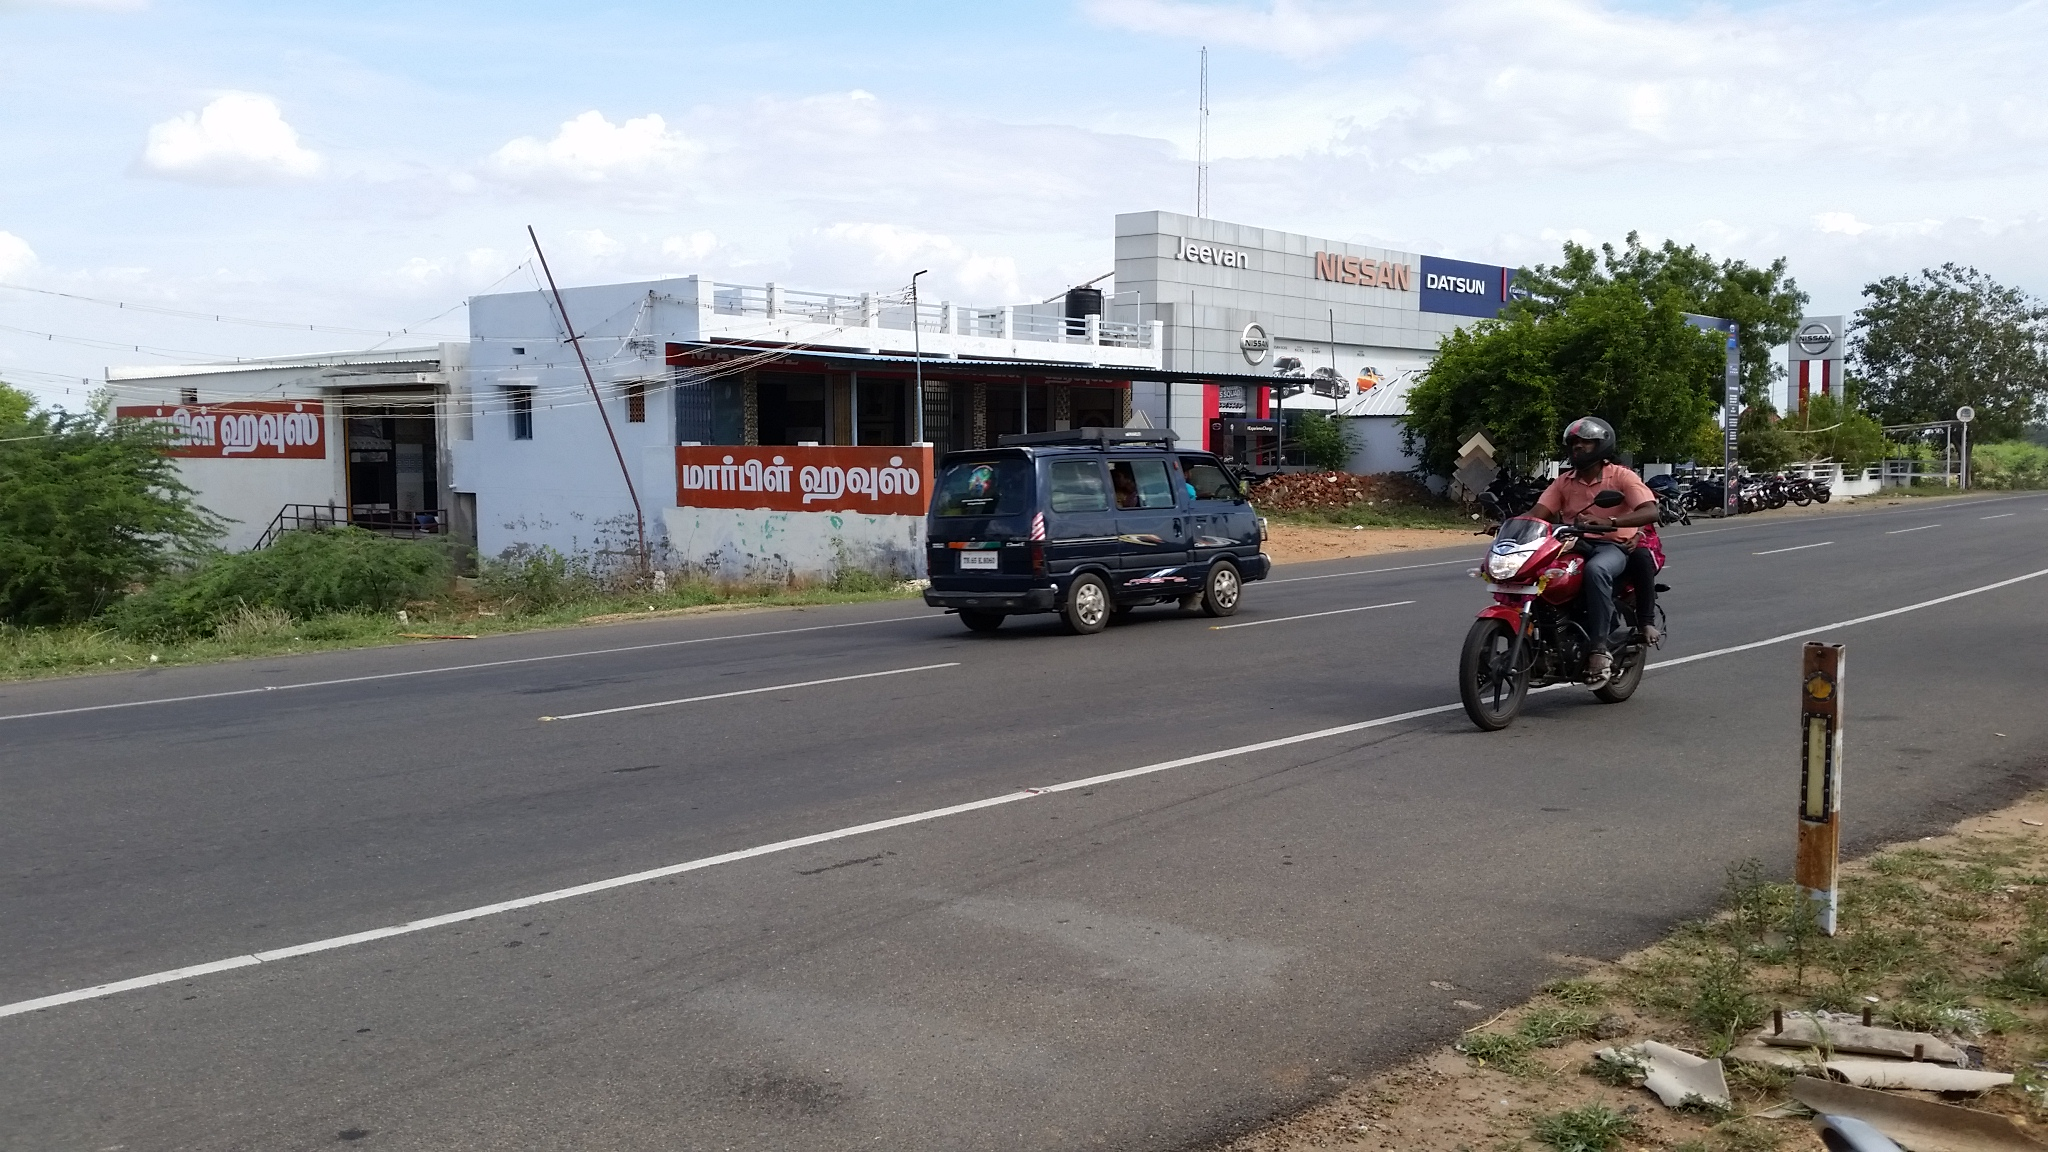biker: (1430, 380, 1692, 761)
helmet: (1558, 397, 1619, 476)
